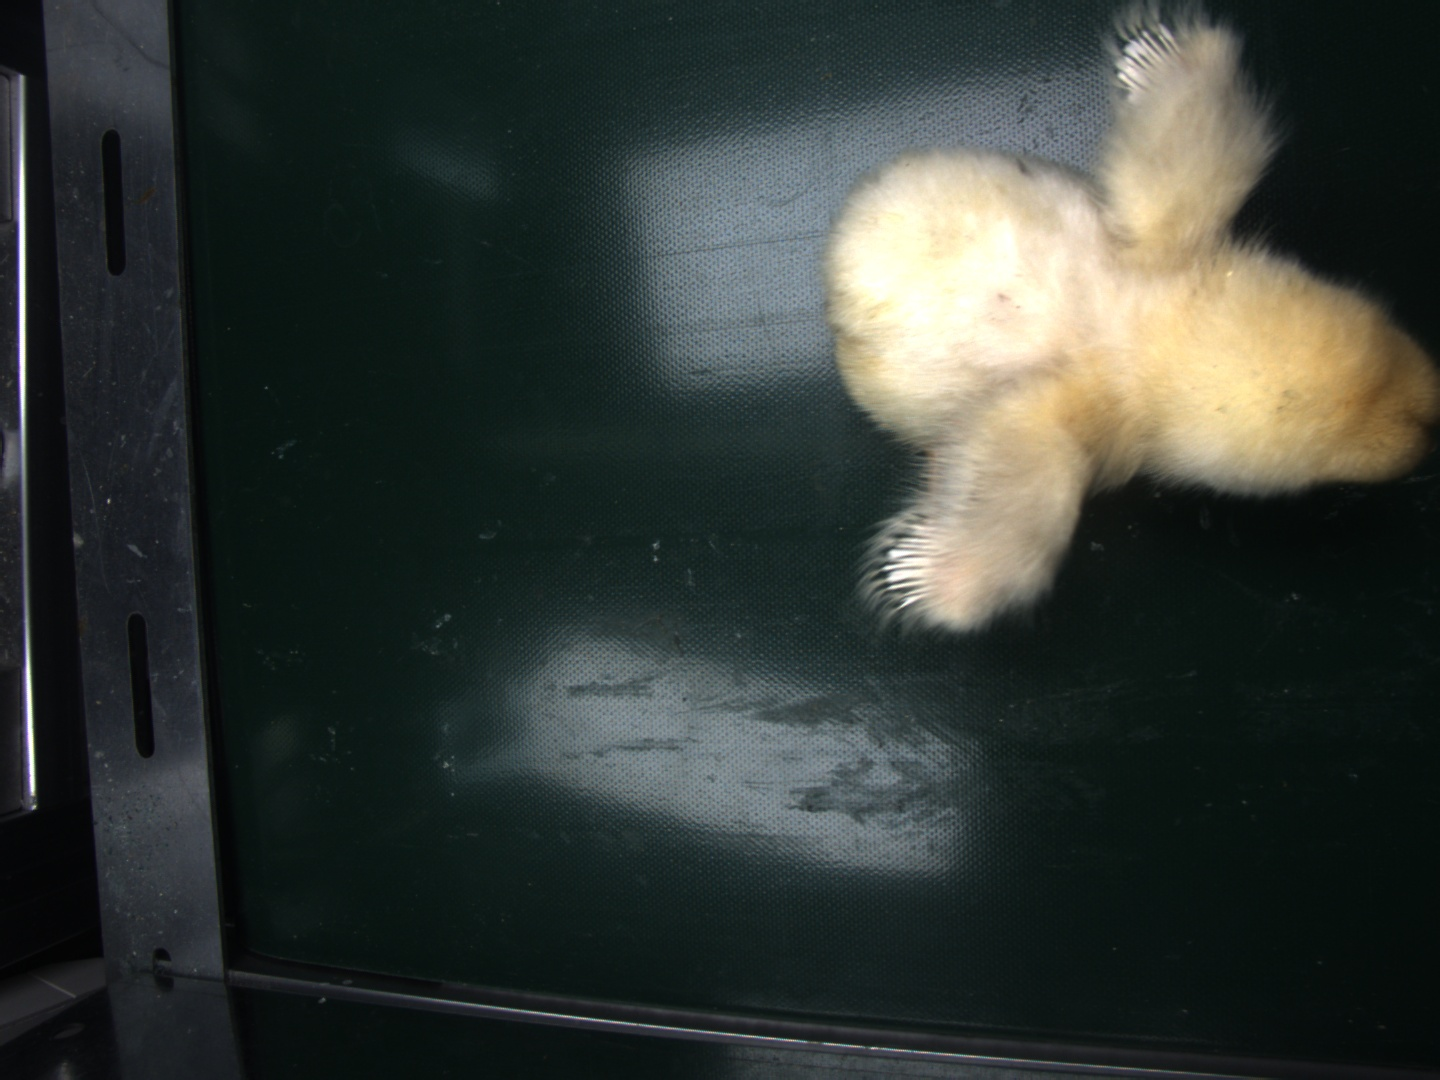male: (882, 515, 942, 615)
